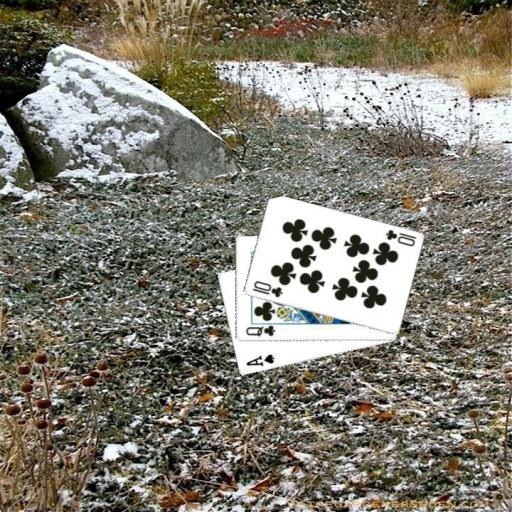10C: (382, 226, 417, 248), (249, 278, 284, 299)
AS: (242, 352, 276, 369)
QC: (243, 323, 277, 338)
